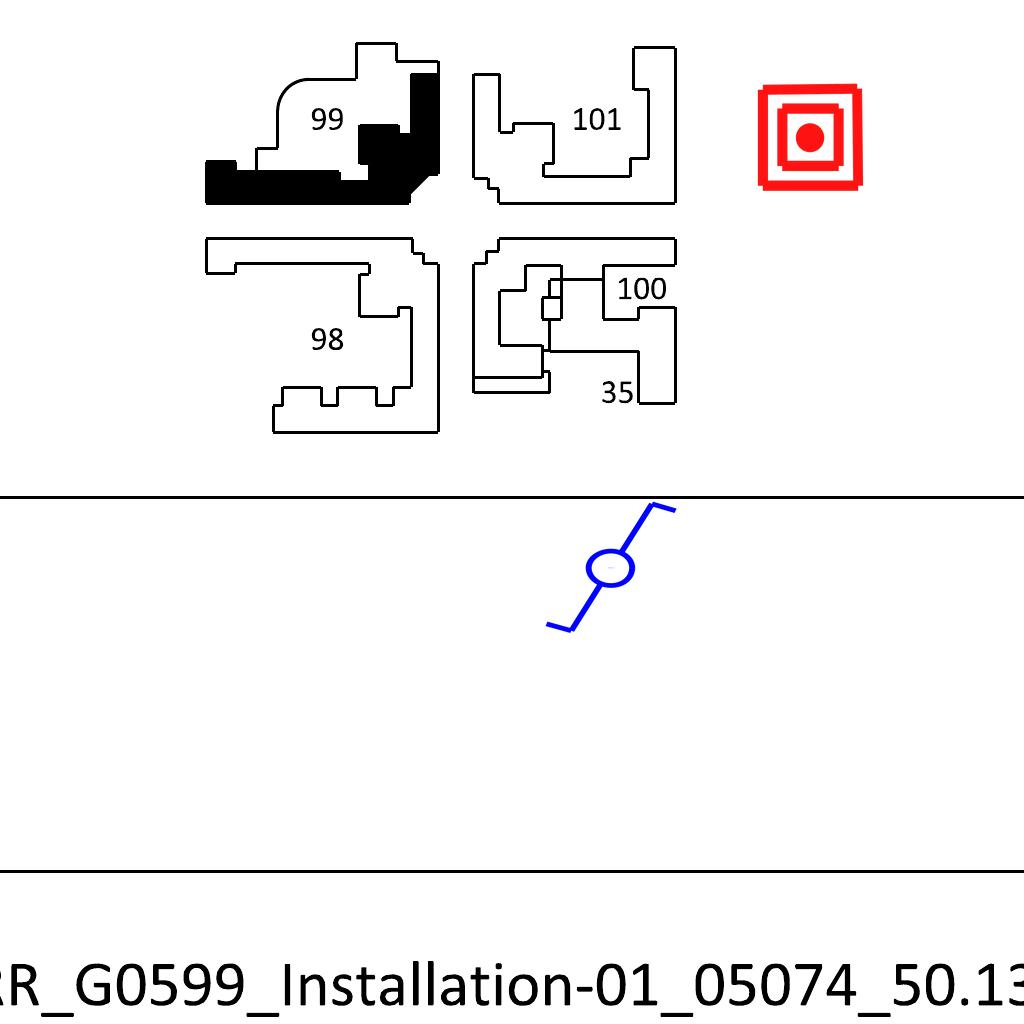NAM-Nichtautomatischer_Melder: (754, 81, 867, 194)
Wechselschalter: (524, 494, 681, 638)
